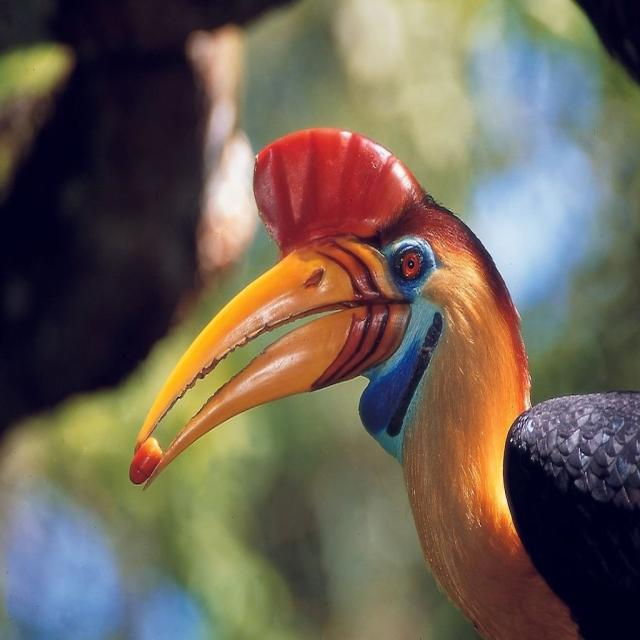Hornbill: (126, 123, 640, 640)
